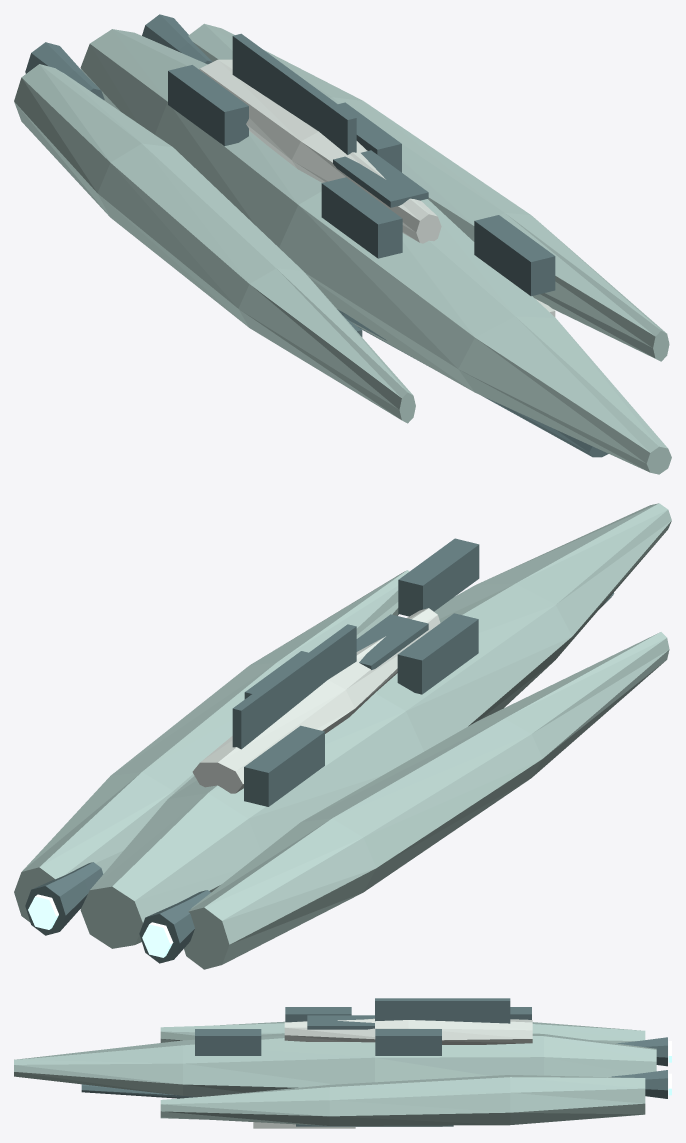
The picture shows the model from 3 angles, top to bottom: view 1: azimuth 30°, elevation 25°; view 2: azimuth 150°, elevation 25°; view 3: azimuth 270°, elevation 25°; orthographic projection. The views are drawn at different scales.
Size of the model in its own units: 7.46 by 4.19 by 23.78.
